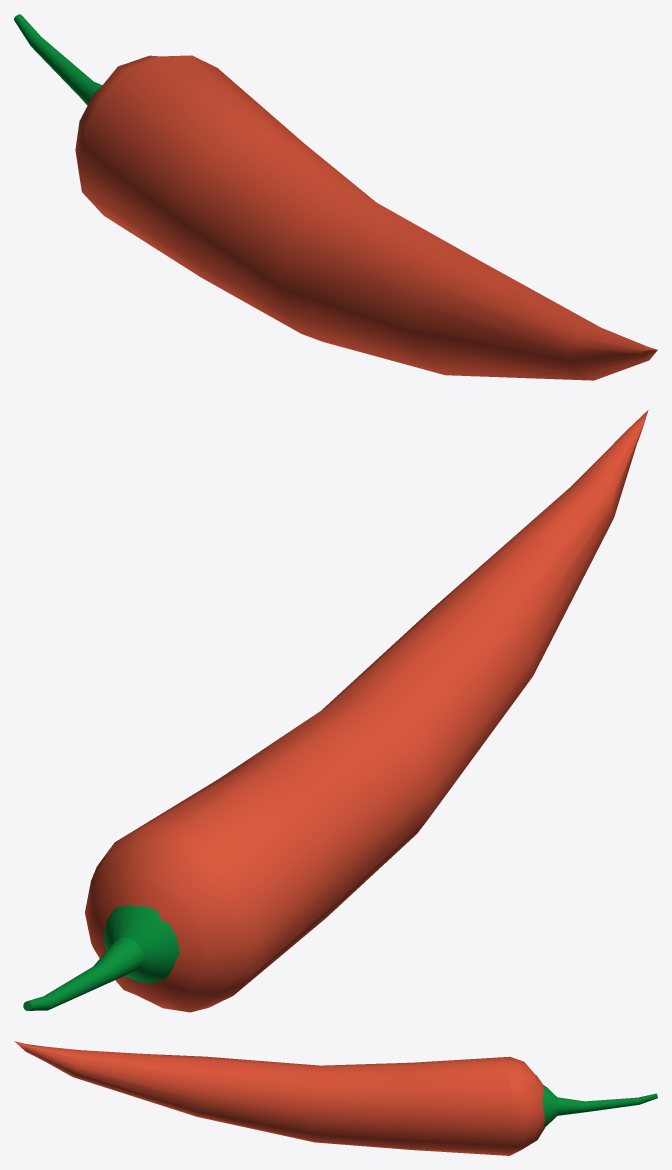
File: Chilli.fbx
3 views of the same model, one above another, from view 1: azimuth 30°, elevation 25°; view 2: azimuth 150°, elevation 25°; view 3: azimuth 270°, elevation 25° (orthographic). The views are drawn at different scales.
Parts seen in each view (by area): view 1: Cylinder.001; view 2: Cylinder.001; view 3: Cylinder.001.
Part boxes in pixels (<box>): Cylinder.001: <box>14,14,657,380</box>; Cylinder.001: <box>23,410,648,1012</box>; Cylinder.001: <box>14,1041,657,1155</box>.
Bounding box in the file's own units: 25.94 × 33.34 × 171.
